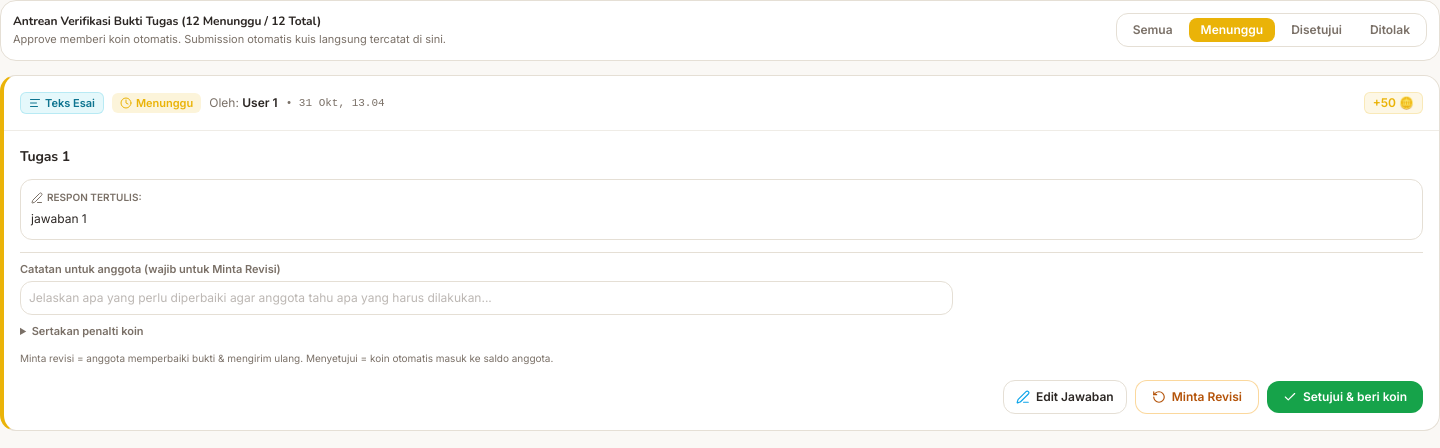
it: SubmissionsQueue pagination › changing filter resets to page 1
Expected: the heading "Tugas 1" is shown, [20, 147, 70, 166]
What coordinates should you click on to do the following:
click the button "Disetujui"
I would click on:
 (1317, 30)
Its box is [1279, 18, 1354, 42].
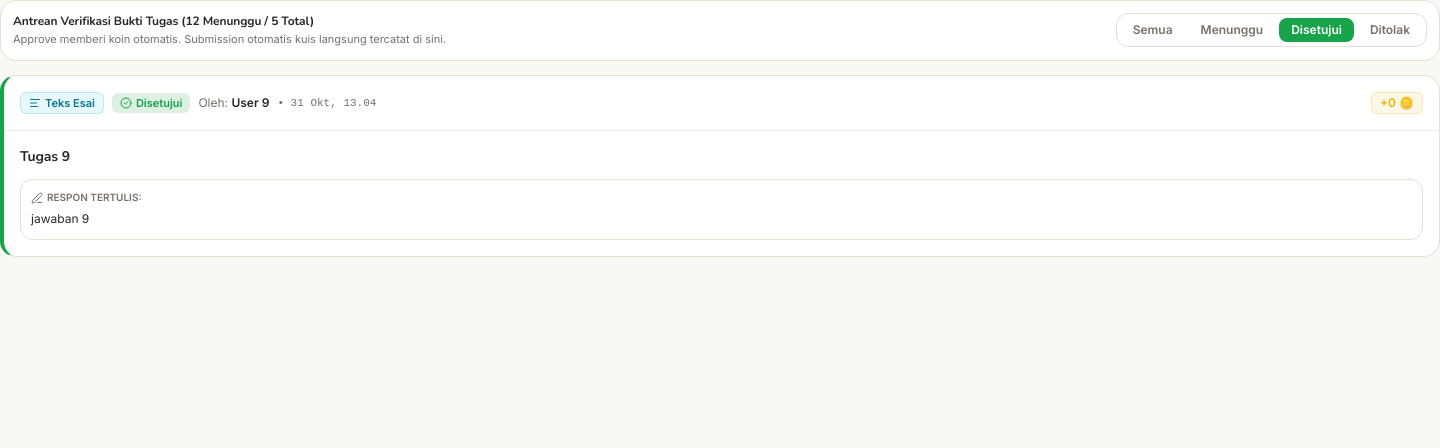
Expected: the heading "Tugas 9" is shown, [20, 147, 70, 166]
